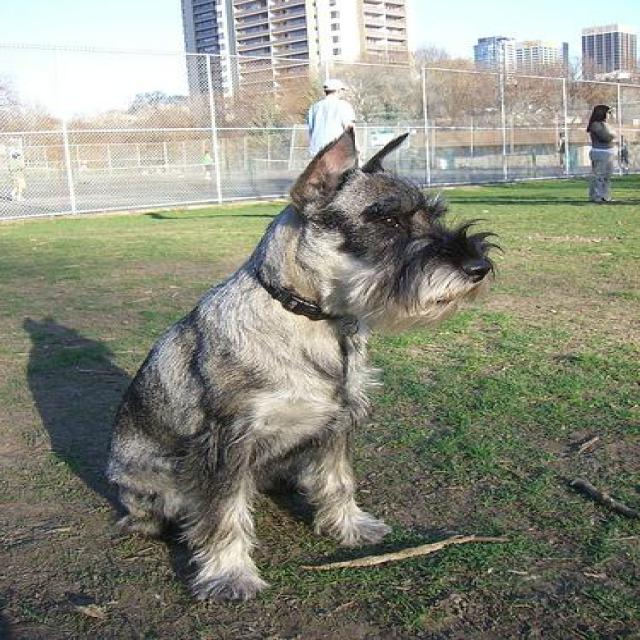standard_schnauzer: (104, 125, 509, 606)
